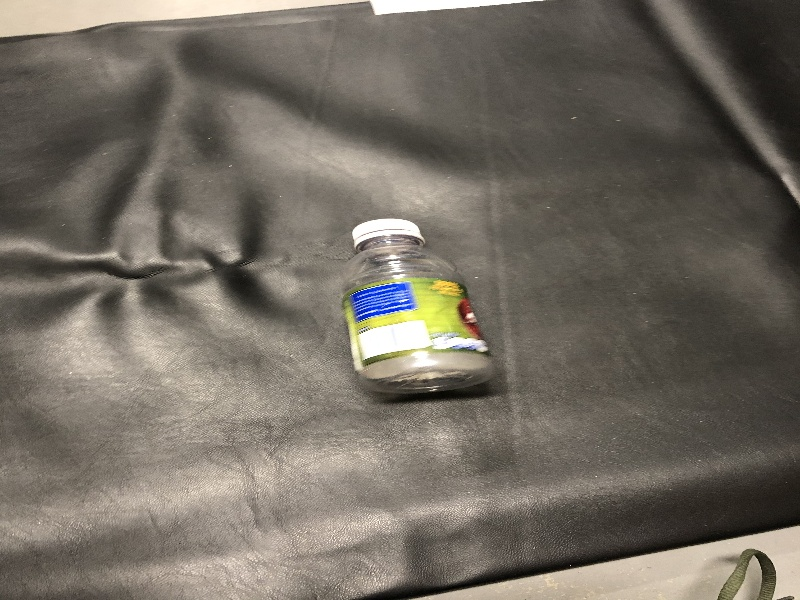plastic: (326, 205, 505, 408)
